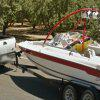Boat: (15, 31, 94, 96)
